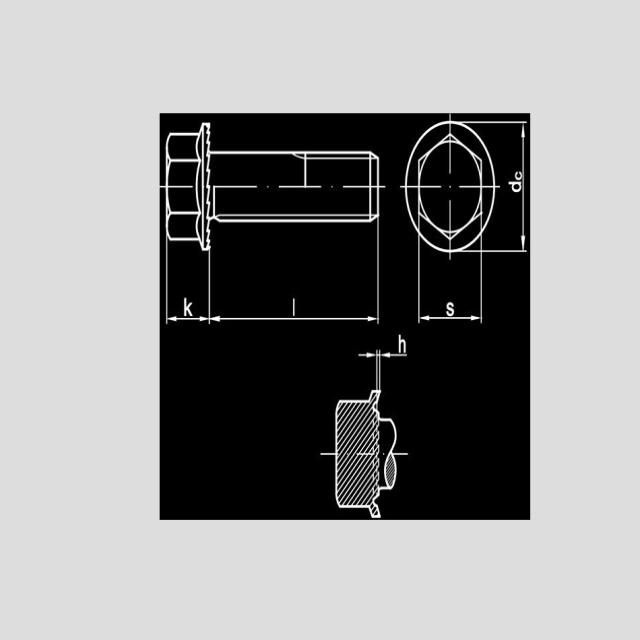marking_line: (207, 250, 381, 324), (415, 252, 483, 326), (496, 121, 528, 258), (164, 252, 212, 324), (359, 352, 409, 389)
numeric: (182, 295, 195, 319), (396, 336, 408, 356), (507, 180, 521, 193), (445, 301, 455, 316), (291, 296, 298, 316), (515, 170, 524, 180)
